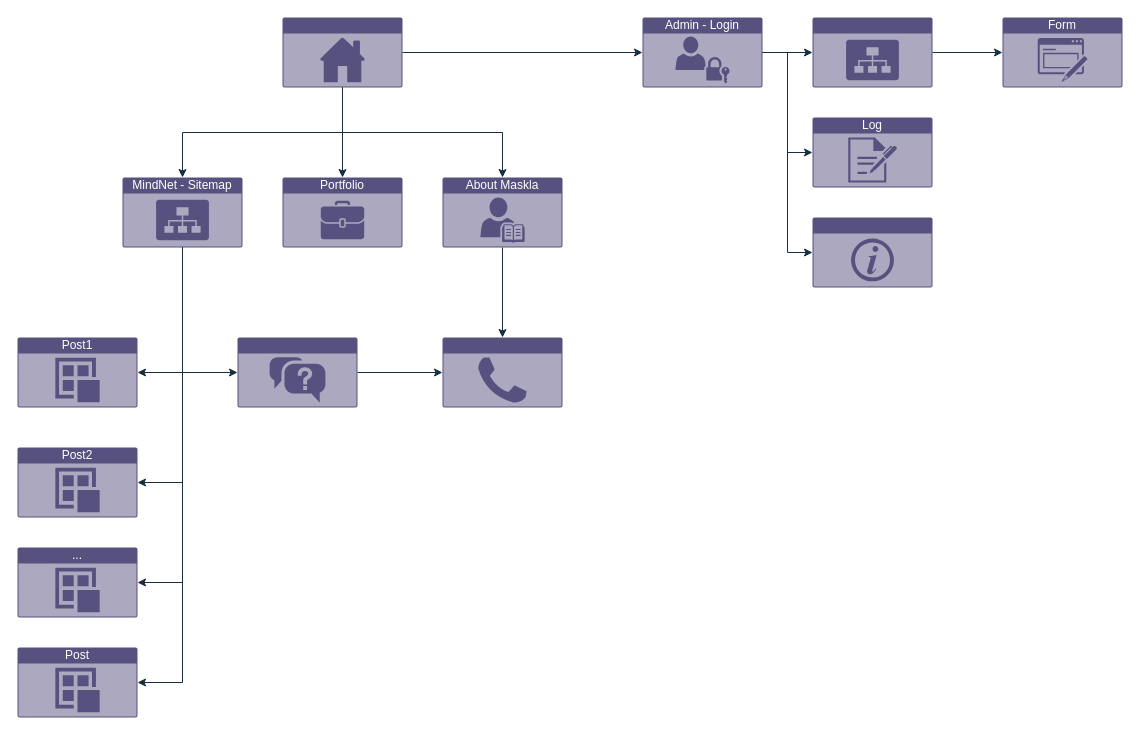
Image size: 1139x734. Some labels were removed from this diagram. Here are the shapes that lost their labels. From the top down, the centre of each, then its label:
point 342,52: Maskla - Home
point 872,52: Maskla - SiteMap
point 872,252: Info
point 297,372: FAQ
point 502,372: Contact
